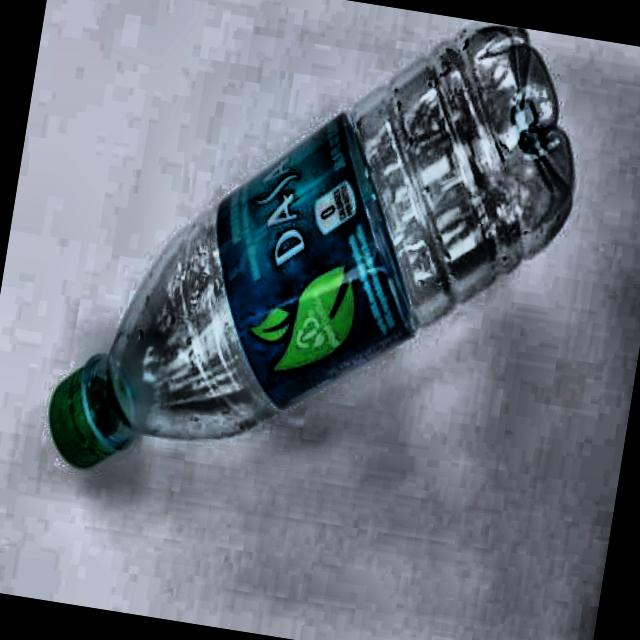plastic bottle: (49, 25, 575, 469)
